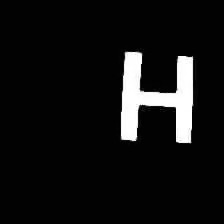LTR_H: (110, 32, 204, 154)
